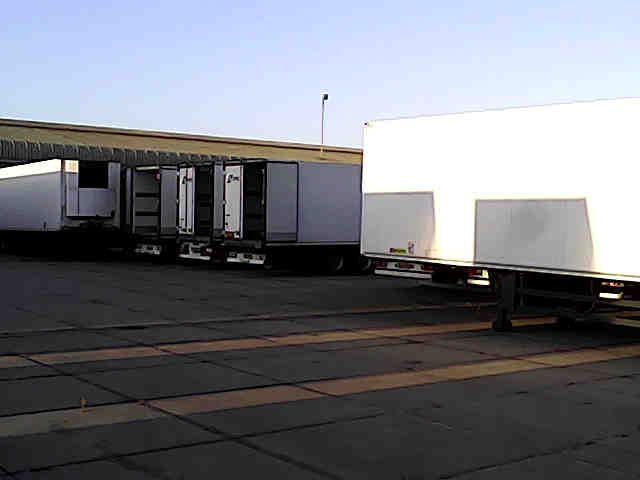whitevan: (361, 98, 639, 329), (0, 119, 361, 269), (0, 158, 366, 272), (178, 159, 366, 271), (0, 159, 176, 256), (0, 159, 121, 249), (125, 166, 177, 258)
